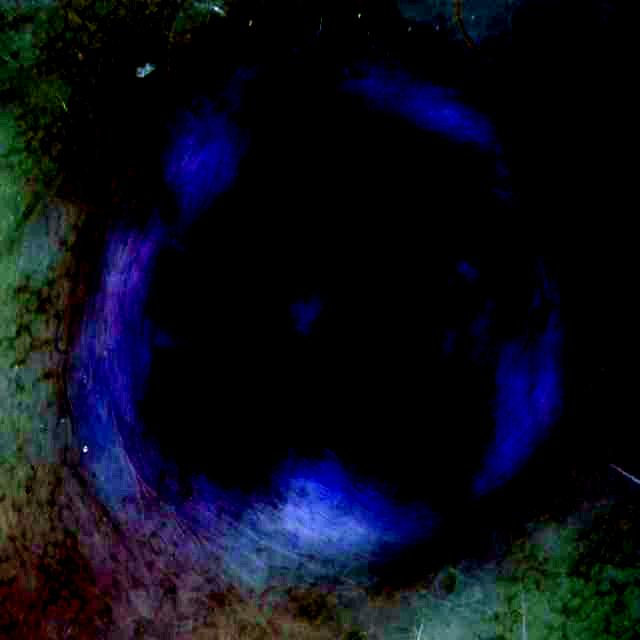VASC: (65, 30, 580, 582)
